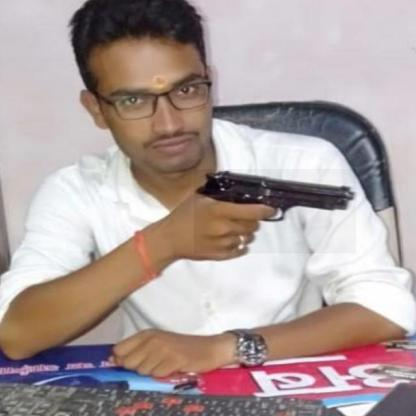handgun: (194, 169, 356, 253)
